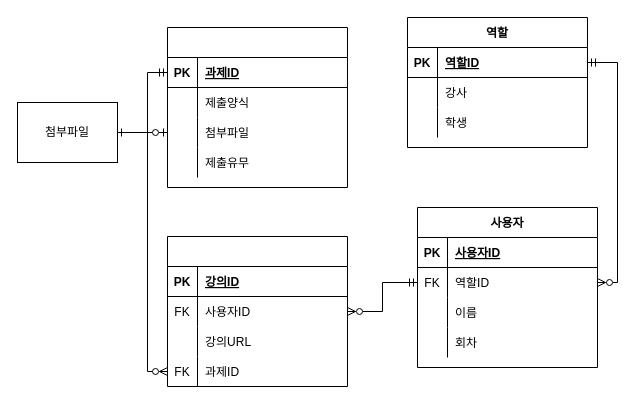
This 644x404 diagram has some shape labels left out. Each missing label, with the box of its shape:
강의: (166, 236, 348, 386)
과제: (166, 26, 348, 188)
